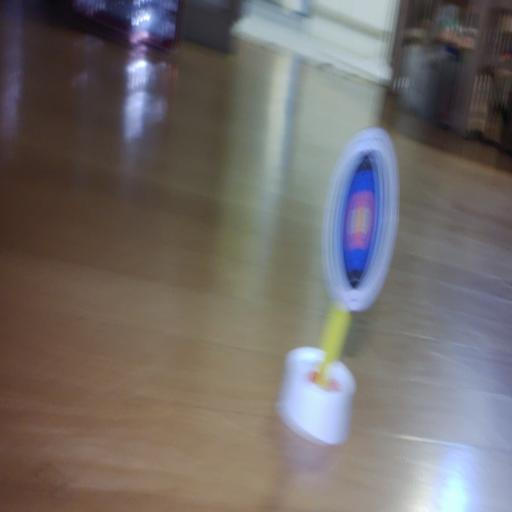target: (322, 128, 399, 311)
